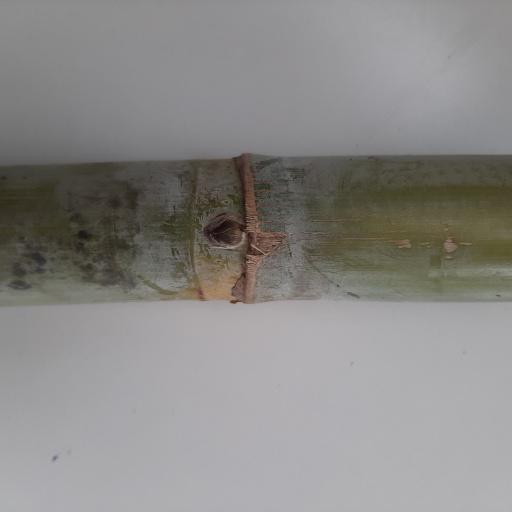Bud: (205, 215, 246, 247)
